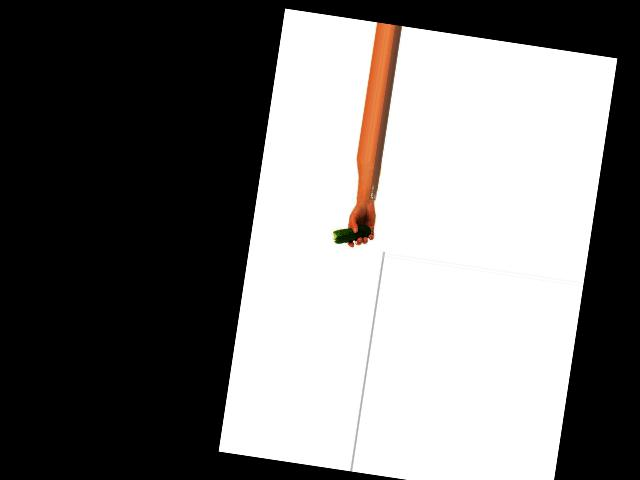cucumber: (332, 220, 372, 247)
